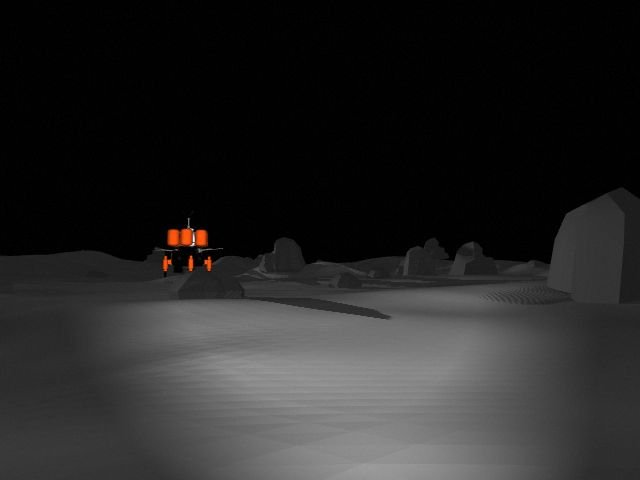homebase: (146, 214, 228, 277)
